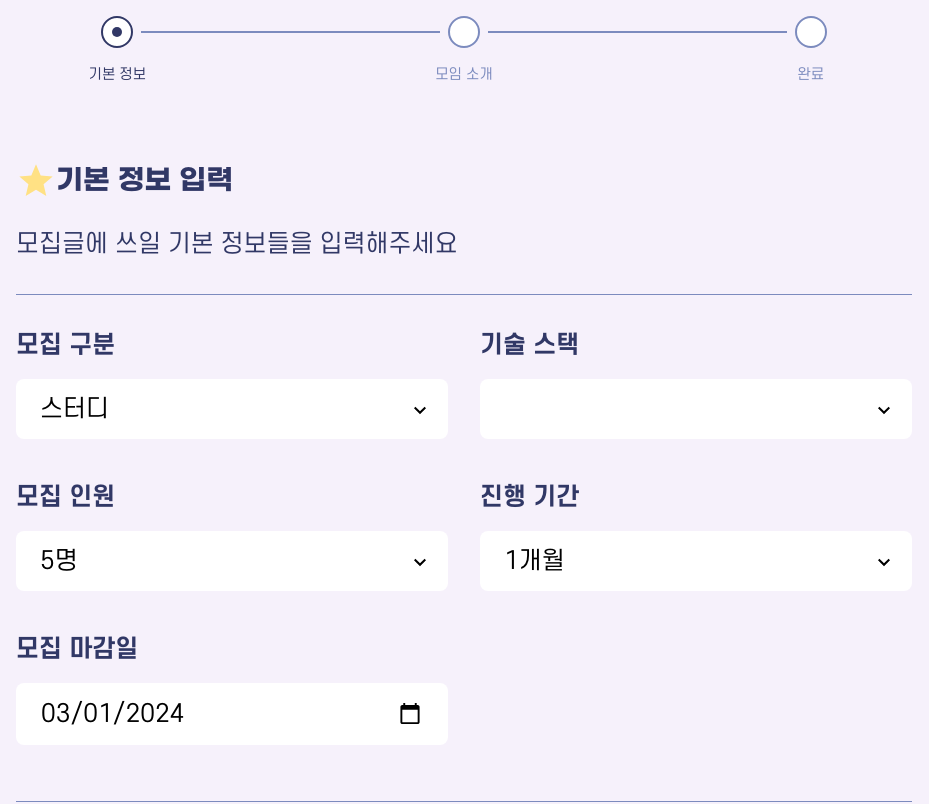
it: CreateMeetingBasicPage 컴포넌트 › 사용자 동작 테스트 › 모집 구분 버튼 클릭시 드롭다운이 표시되어야 한다
The width and height of the screenshot is (929, 804).
Click the field with test id "recruitment-type-input" at {"x": 232, "y": 409}, box [16,379,448,439]
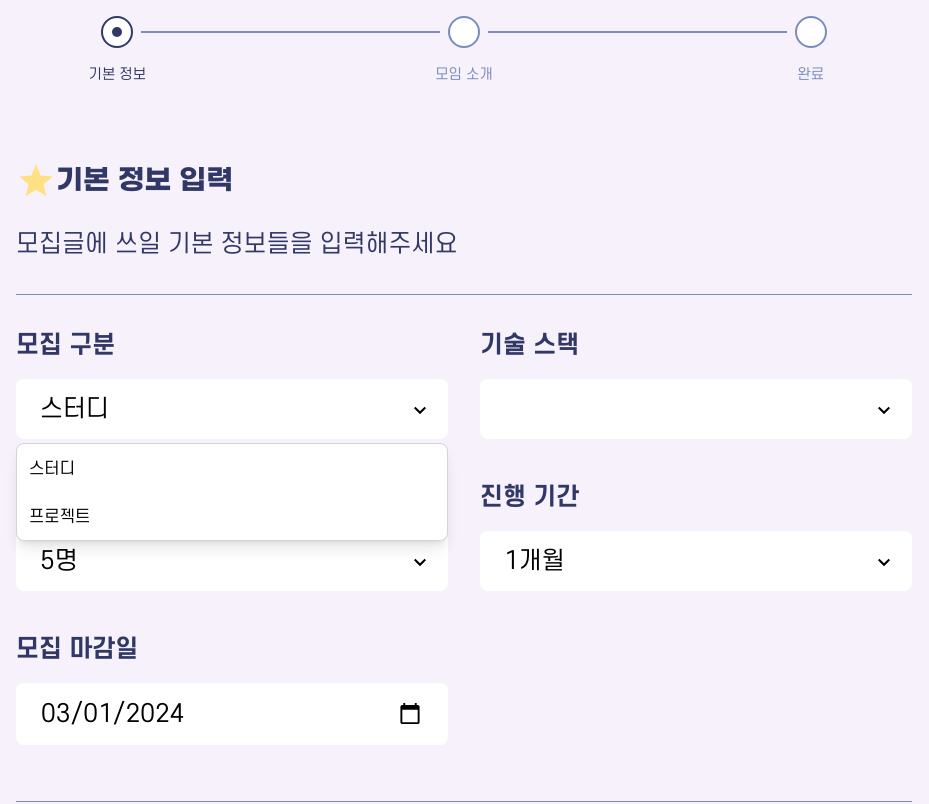
Expected: the element with test id "recruitment-dropdown" is shown, [16,443,448,541]
